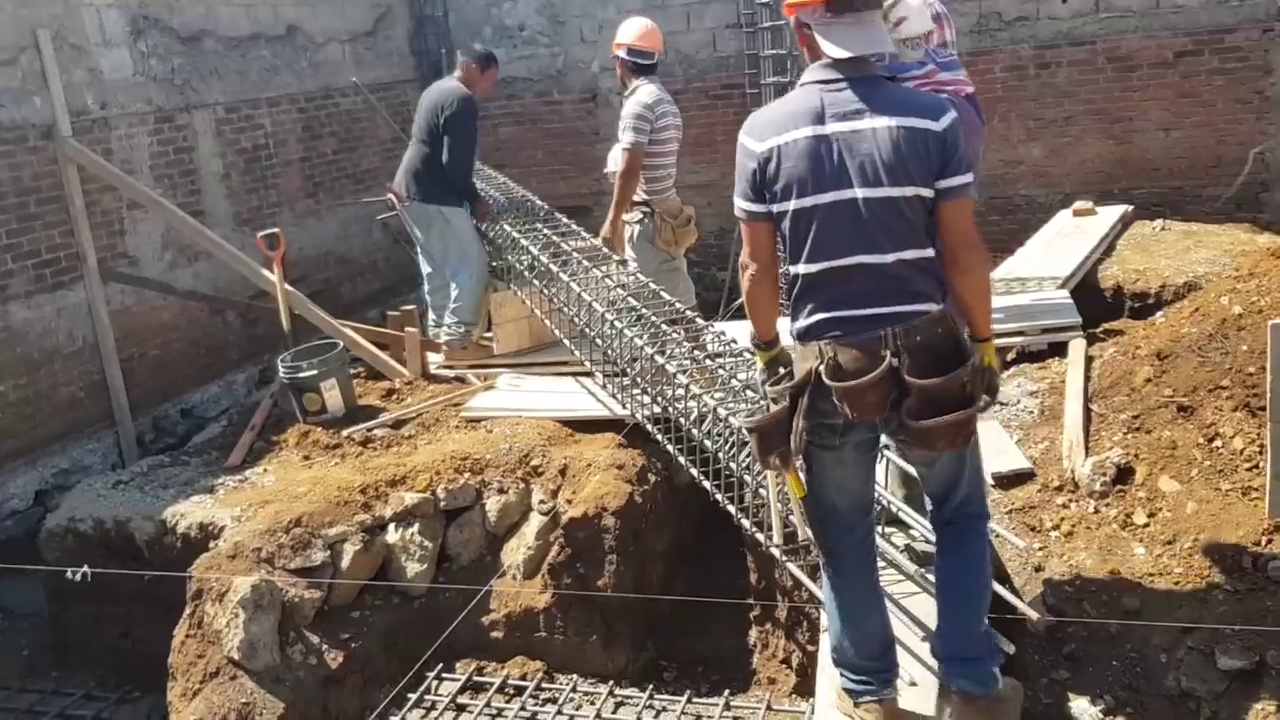helmet: (609, 16, 663, 64)
helmet-off: (449, 45, 498, 97)
helmet-on: (782, 0, 885, 73), (609, 18, 663, 90)
person: (715, 5, 1038, 702), (387, 40, 501, 366), (593, 3, 690, 305)
